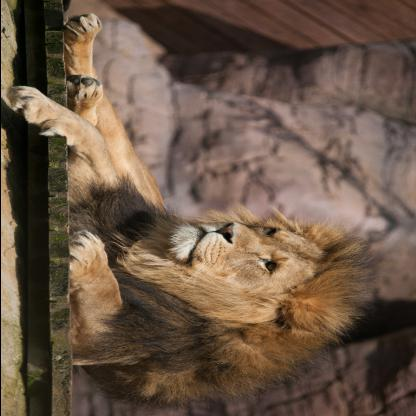lion: (130, 204, 356, 350)
